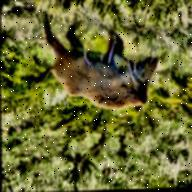boar: (28, 24, 171, 122)
